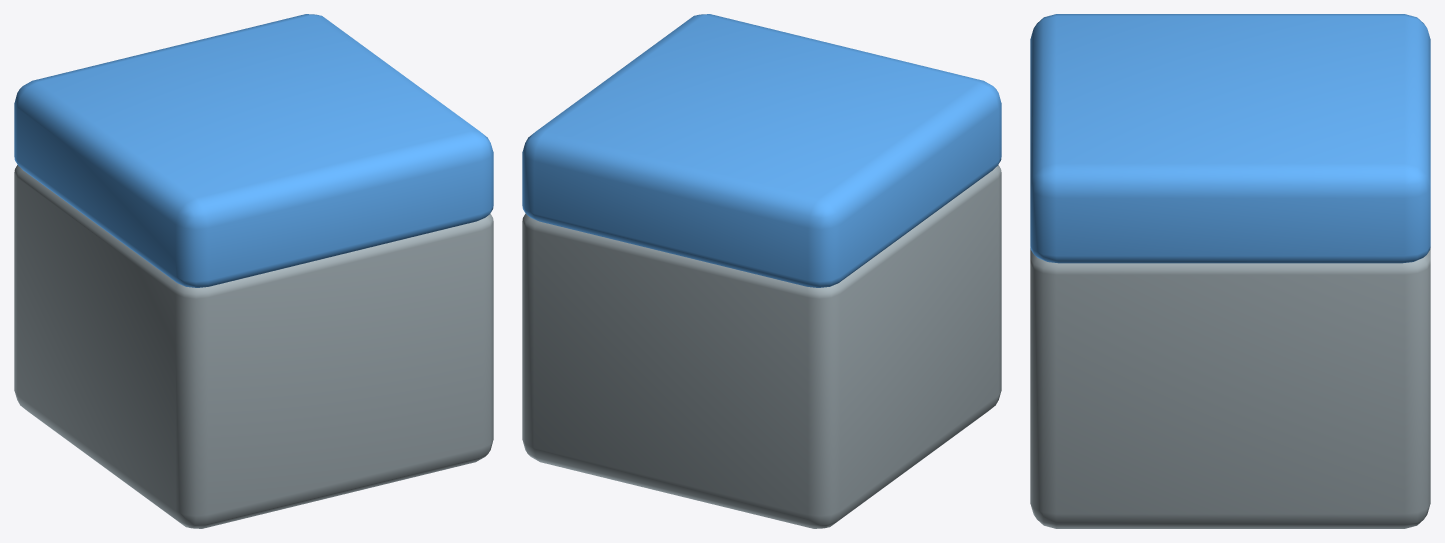
The model's file is tileHigh_teamBlue-col.glb.
3 renders of one model, left to right at view 1: azimuth 30°, elevation 25°; view 2: azimuth 150°, elevation 25°; view 3: azimuth 270°, elevation 25°, orthographic. The views are drawn at different scales.
Parts seen in each view (by area): view 1: tileHigh_teamBlue-col; view 2: tileHigh_teamBlue-col; view 3: tileHigh_teamBlue-col.
Boxes of the visible parts, box(x1,y1,x2,y2) form: tileHigh_teamBlue-col: box(14, 14, 493, 528); tileHigh_teamBlue-col: box(522, 14, 1001, 528); tileHigh_teamBlue-col: box(1030, 14, 1430, 528).
Size of the model in its own units: 2 by 2 by 2.
